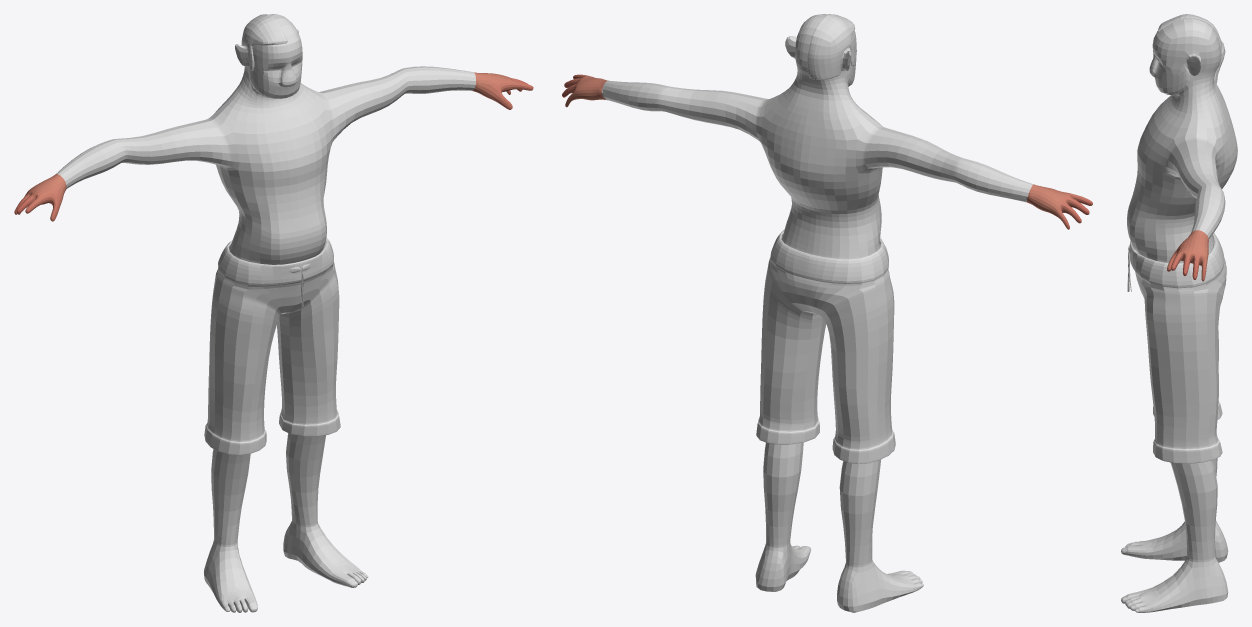
Rendered from SlaveBoy_001.fbx.
The picture shows the model from 3 angles, left to right: view 1: azimuth 30°, elevation 25°; view 2: azimuth 150°, elevation 25°; view 3: azimuth 270°, elevation 25°; orthographic projection. The views are drawn at different scales.
Parts seen in each view (by area): view 1: Body, Trousers, Hair; view 2: Body, Trousers, Hair; view 3: Body, Trousers, Hair.
Boxes of the visible parts, x1,y1,x2,y2 form: Body: (14,14,533,612); Trousers: (204,237,340,455); Hair: (241,14,287,71); Body: (562,14,1092,612); Trousers: (756,229,895,463); Hair: (807,14,855,79); Body: (1121,18,1237,612); Trousers: (1128,233,1226,463); Hair: (1157,14,1221,67).
Size of the model in its own units: 4934 by 5151 by 970.
